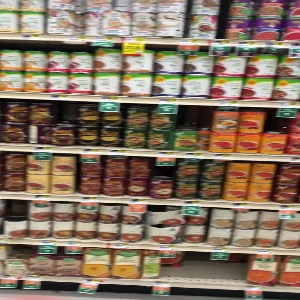void: (161, 247, 246, 285)
